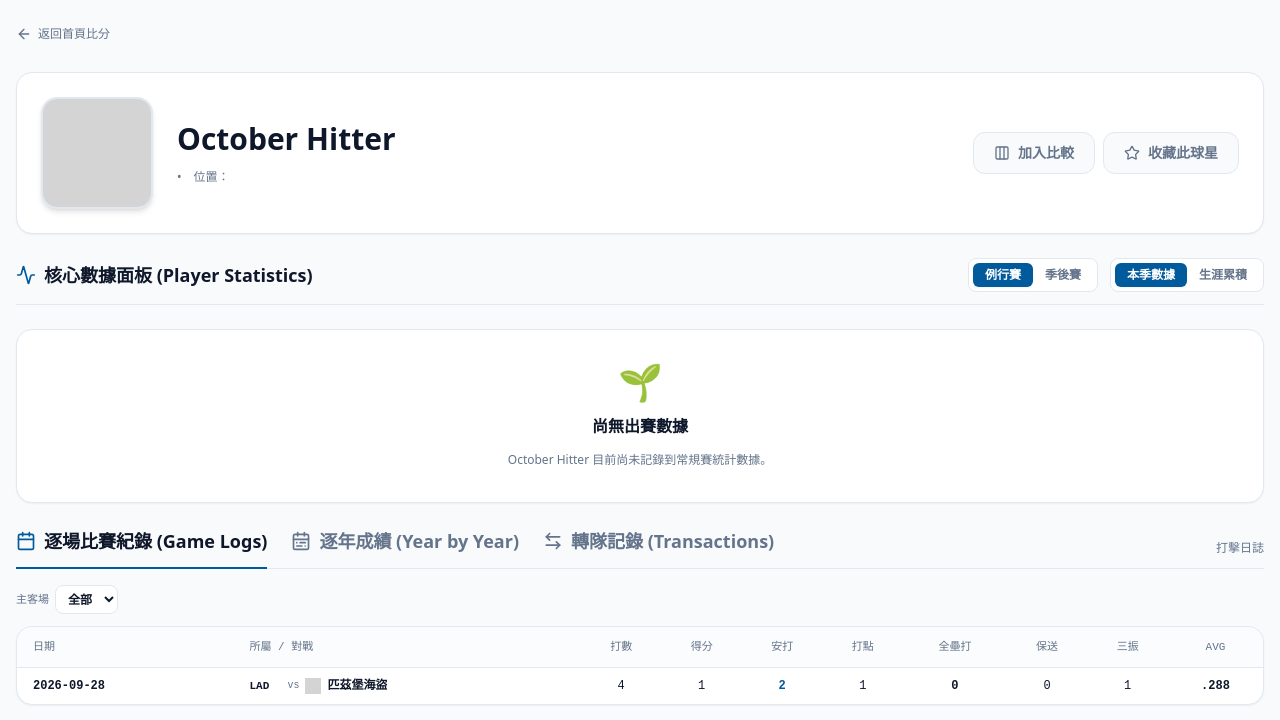
Test: PlayerDetailPage postseason games › shows the postseason line for the season and the career when asked
This screenshot has width=1280, height=720.
Check: the link "2026-09-28" is shown, box x1=33 y1=678 x2=105 y2=692
Click the button "季後賽". click: (1063, 275)
box: x1=1033 y1=263 x2=1093 y2=287
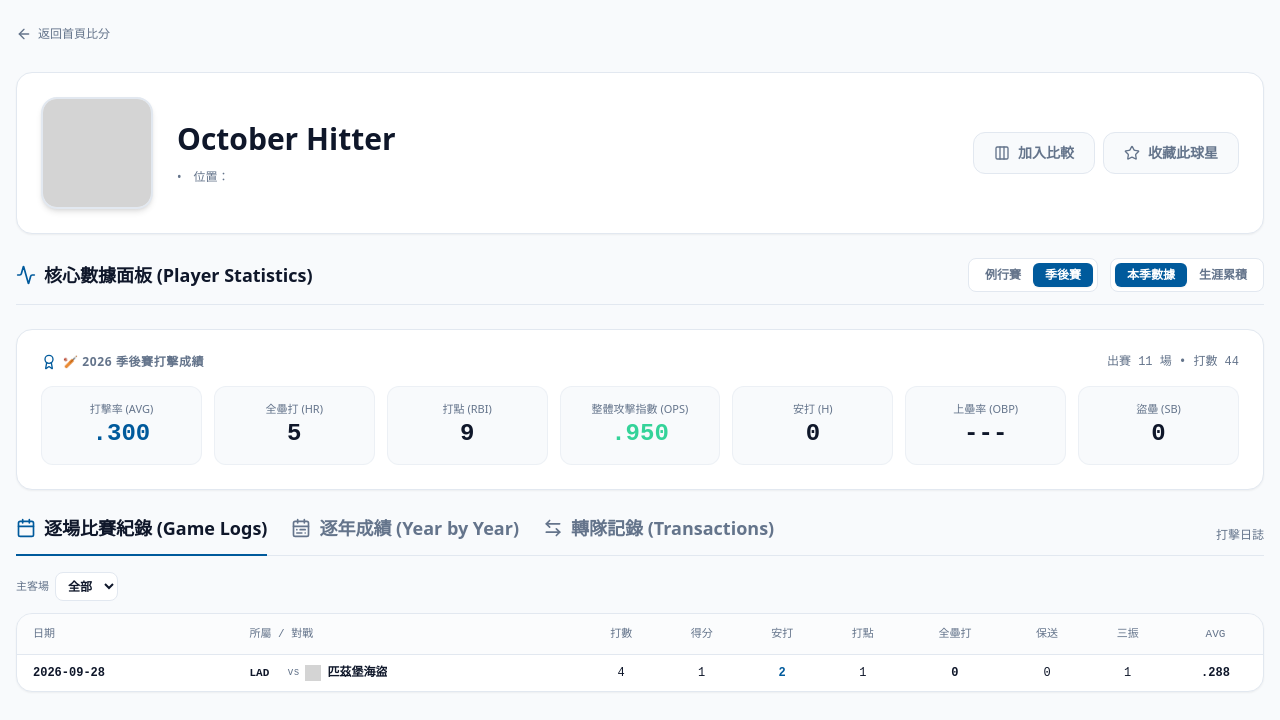
Check: the text "🏏 2026 季後賽打擊成績" is shown, box x1=63 y1=354 x2=204 y2=370
Check: the text "出賽 11 場 • 打數 44" is shown, box x1=1107 y1=354 x2=1239 y2=370
Click the button "生涯累積". click: (1223, 275)
box: x1=1187 y1=263 x2=1259 y2=287
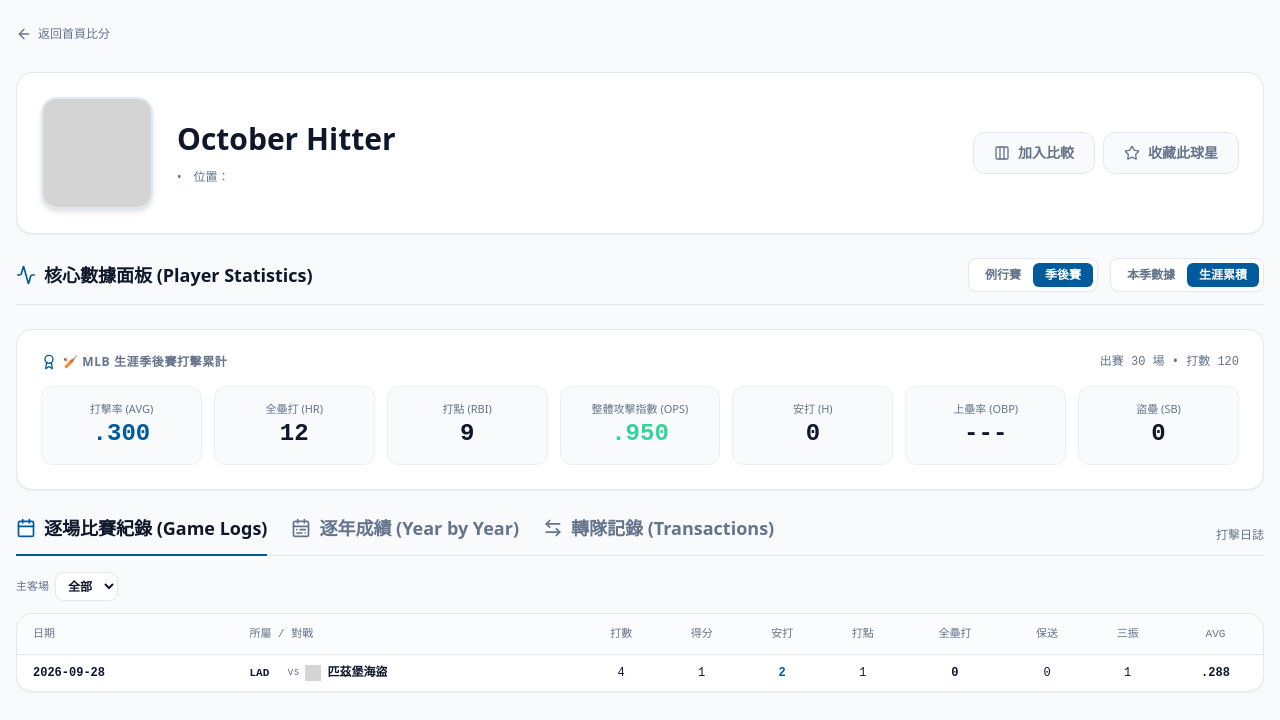
Check: the text "🏏 MLB 生涯季後賽打擊累計" is shown, box x1=63 y1=354 x2=227 y2=370
Check: the text "出賽 30 場 • 打數 120" is shown, box x1=1100 y1=354 x2=1239 y2=370
